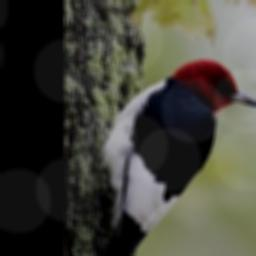Woodpecker: (82, 54, 256, 256)
